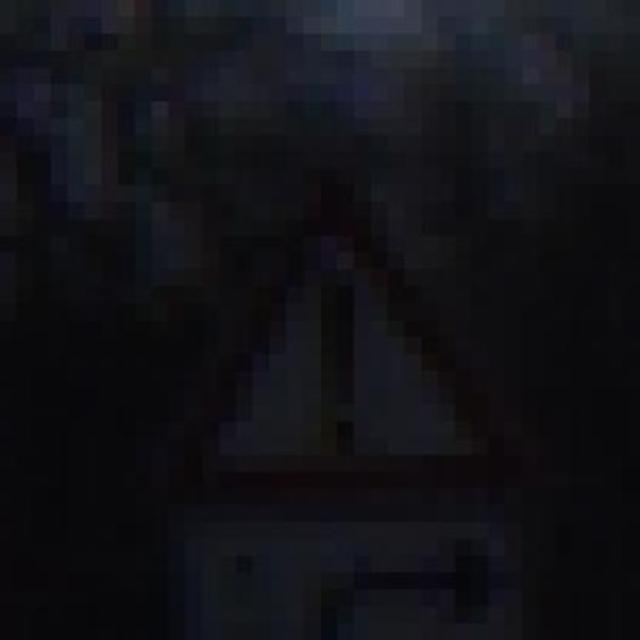Attention Please-: (137, 202, 541, 506)
